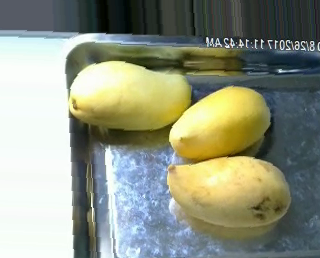Mango: (168, 156, 291, 227), (68, 60, 190, 131), (169, 86, 270, 158)
